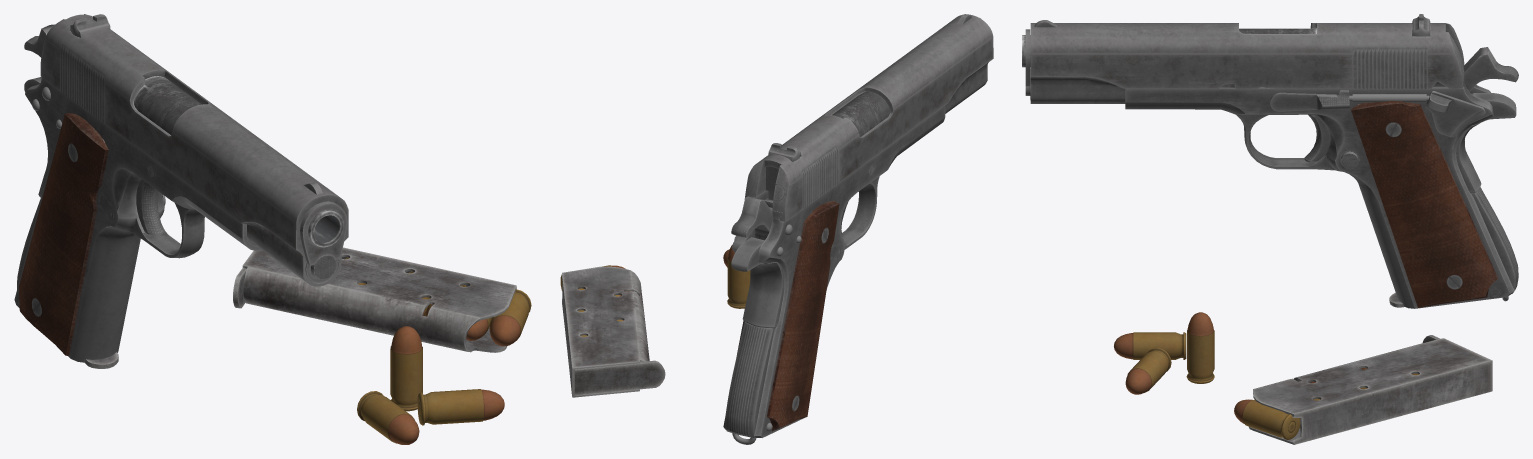
The picture shows the model from 3 angles, left to right: view 1: azimuth 30°, elevation 25°; view 2: azimuth 150°, elevation 25°; view 3: azimuth 270°, elevation 25°; orthographic projection. The views are drawn at different scales.
Visible parts, largest first — view 1: slide_low, gun_frame_low, magazine_low1, grip_right_low, gun_barrel_low, bullet_45_acp_low6, bullet_45_acp_low7, bullet_45_acp_low, bullet_45_acp_low2, reserve_plug_low, trigger_low, secondary_plug_low (+1 smaller); view 2: slide_low, gun_frame_low, magazine_low1, grip_right_low, housing_low, grip_safety_low, magazine_bottom_low1, gun_barrel_low, hammer_low, bullet_45_acp_low7; view 3: slide_low, left_grip_low, gun_frame_low, magazine_low1, bullet_45_acp_low7, thump_safety_low, bullet_45_acp_low, bullet_45_acp_low2, grip_safety_low, housing_low, slide_stop_low, bullet_45_acp_low6 (+4 smaller).
Part boxes in pixels (x1=…): slide_low: x1=40, y1=14, x2=348, y2=286; gun_frame_low: x1=14, y1=78, x2=262, y2=362; magazine_low1: x1=242, y1=247, x2=516, y2=352; grip_right_low: x1=19, y1=113, x2=108, y2=355; gun_barrel_low: x1=134, y1=76, x2=343, y2=247; bullet_45_acp_low6: x1=417, y1=389, x2=504, y2=425; bullet_45_acp_low7: x1=390, y1=326, x2=422, y2=411; bullet_45_acp_low: x1=357, y1=391, x2=419, y2=444; bullet_45_acp_low2: x1=489, y1=289, x2=531, y2=346; reserve_plug_low: x1=300, y1=201, x2=347, y2=265; trigger_low: x1=136, y1=179, x2=163, y2=235; secondary_plug_low: x1=305, y1=254, x2=338, y2=282; slide_low: x1=744, y1=14, x2=993, y2=221; gun_frame_low: x1=723, y1=105, x2=945, y2=437; magazine_low1: x1=562, y1=266, x2=649, y2=397; grip_right_low: x1=766, y1=201, x2=839, y2=431; housing_low: x1=725, y1=322, x2=776, y2=437; grip_safety_low: x1=731, y1=237, x2=784, y2=328; magazine_bottom_low1: x1=574, y1=360, x2=665, y2=395; gun_barrel_low: x1=832, y1=91, x2=890, y2=136; hammer_low: x1=731, y1=196, x2=772, y2=240; bullet_45_acp_low7: x1=727, y1=245, x2=750, y2=308; slide_low: x1=1030, y1=23, x2=1464, y2=103; left_grip_low: x1=1350, y1=101, x2=1498, y2=307; gun_frame_low: x1=1125, y1=64, x2=1514, y2=308; magazine_low1: x1=1249, y1=338, x2=1492, y2=444; bullet_45_acp_low7: x1=1186, y1=312, x2=1214, y2=383; thump_safety_low: x1=1425, y1=91, x2=1485, y2=137; bullet_45_acp_low: x1=1114, y1=332, x2=1186, y2=359; bullet_45_acp_low2: x1=1234, y1=399, x2=1300, y2=439; grip_safety_low: x1=1456, y1=93, x2=1516, y2=193; housing_low: x1=1471, y1=187, x2=1518, y2=293; slide_stop_low: x1=1270, y1=90, x2=1349, y2=111; bullet_45_acp_low6: x1=1125, y1=348, x2=1171, y2=394.
Size of the model in its own units: 11.74 by 9.62 by 15.28.
Materials: 2 (2 with a texture image).
